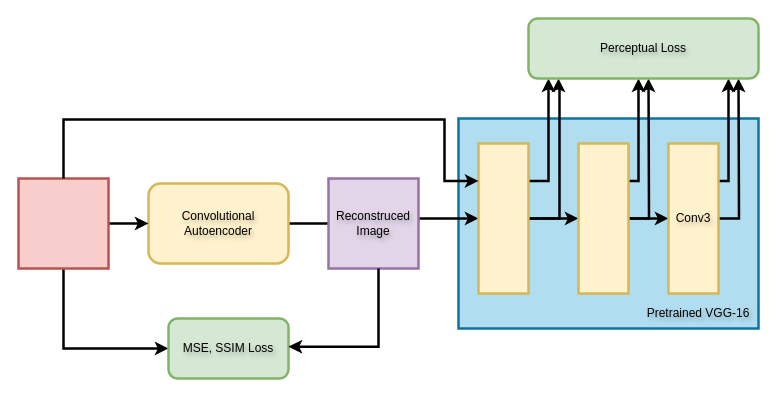
Image size: 777x397. Some labels were removed from this diagram. The box of each missing label's shape, as (x1, y1, x2, y2) in pixels:
Conv1: (477, 142, 529, 294)
Conv2: (577, 142, 629, 294)
Input Image: (17, 177, 109, 269)
